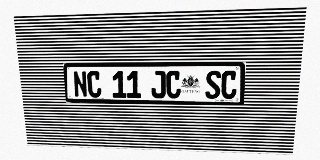1: (126, 71, 141, 98), (112, 71, 126, 98)
C: (221, 71, 237, 99), (87, 71, 102, 98), (166, 71, 181, 98)
J: (151, 71, 166, 98)
N: (73, 71, 88, 97)
S: (205, 71, 221, 99)
